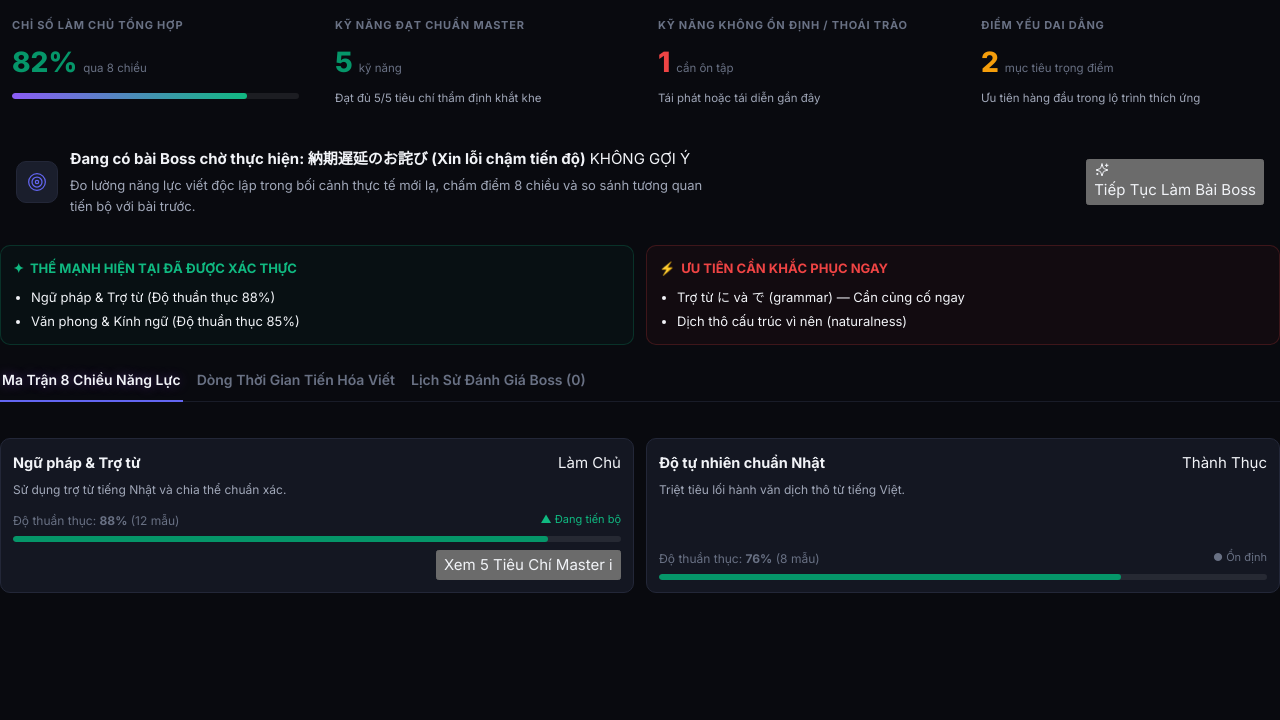
Test: Phase 23 Writing Mastery & Boss Assessment UI › opens 5-criterion verification modal when clicking on details button
expect the text "Ngữ pháp & Trợ từ" is shown: met, box 13,451 -> 140,474
Click the button "Xem 5 Tiêu Chí Master ℹ" at (528, 565), box 436,550 -> 621,580
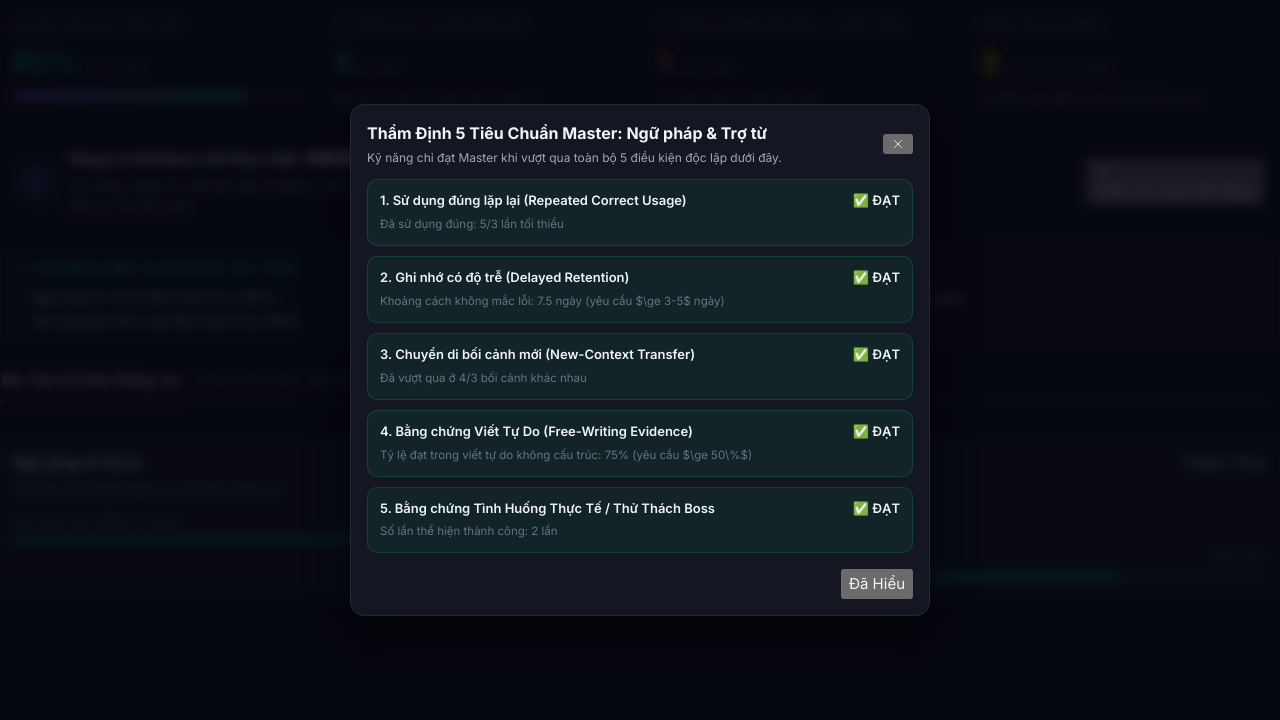
expect the heading "Thẩm Định 5 Tiêu Chuẩn Master: Ngữ pháp & Trợ từ" is shown: met, box 367,121 -> 782,146
expect the text "1. Sử dụng đúng lặp lại (Repeated Correct Usage)" is shown: met, box 380,190 -> 687,211
expect the text "2. Ghi nhớ có độ trễ (Delayed Retention)" is shown: met, box 380,267 -> 629,288
Click the button "Đã Hiểu" at (877, 584), box 841,569 -> 913,599
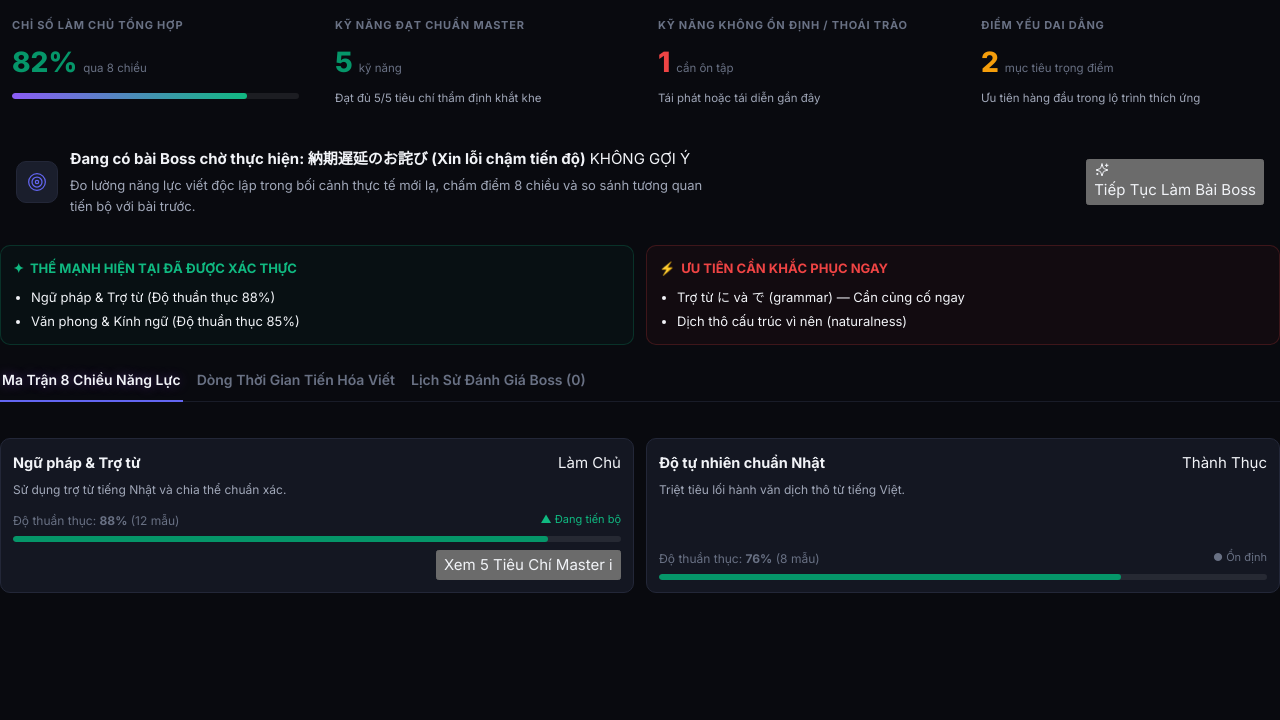
expect the heading "Thẩm Định 5 Tiêu Chuẩn Master" is gone: met
